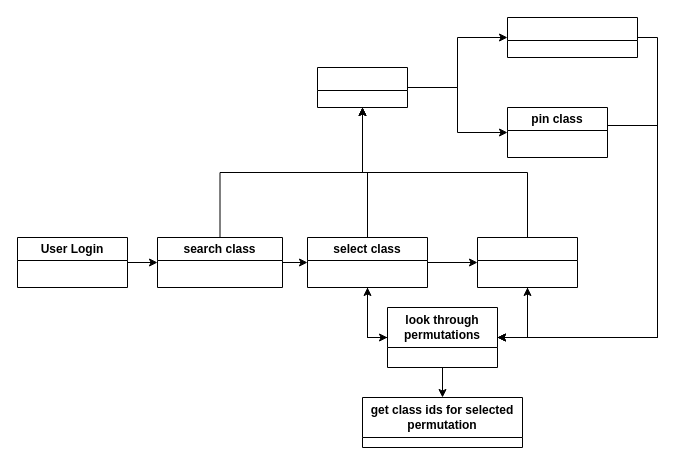
Some shapes in this 683 by 465 pixel diagram are drawn without their labels. The centre of each missing label's shape, as x and y in pixels:
block out time period: pixel 572 37
edit grid: pixel 362 87
remove class: pixel 527 262
